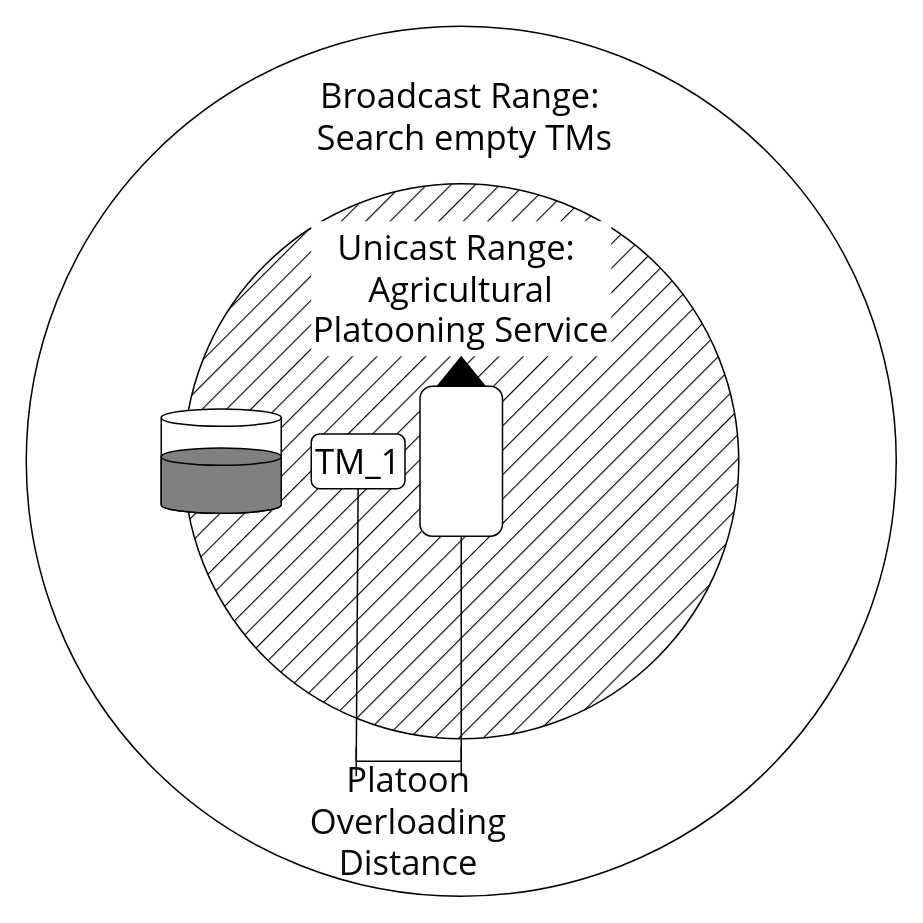
Some shapes in this 923 by 923 pixel diagram are drawn without their labels. Each missing label, with the centre of its shape:
FH: the point at 460,460
Filllevel: the point at 220,480
